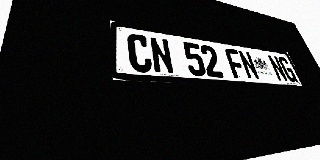2: (199, 44, 224, 78)
5: (182, 41, 208, 77)
C: (126, 33, 153, 73)
F: (224, 48, 248, 79)
G: (277, 56, 298, 82)
N: (149, 36, 175, 74), (237, 50, 261, 80), (267, 55, 289, 82)
